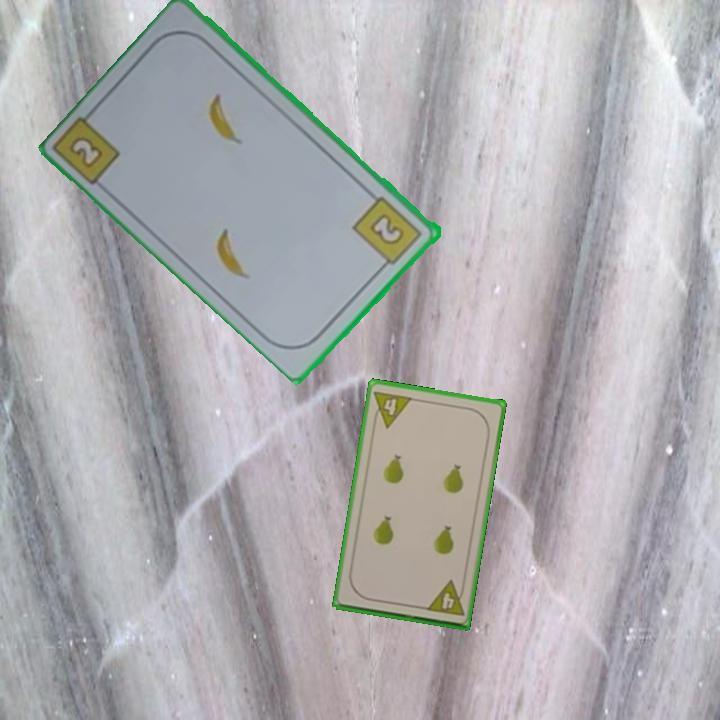2b: (349, 193, 426, 273), (69, 135, 107, 172)
4p: (369, 387, 415, 431), (422, 577, 468, 619)
